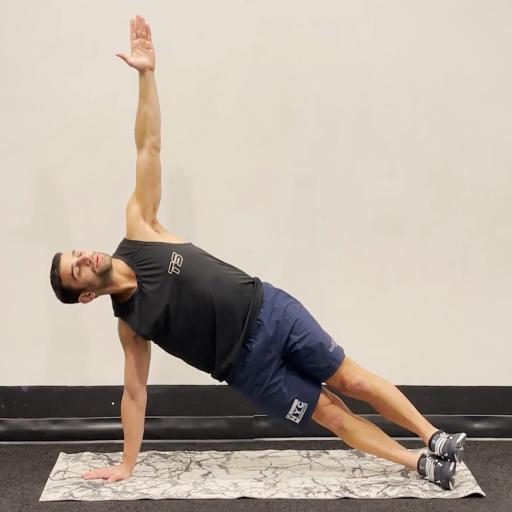Normal_Dips: (11, 3, 512, 507)
